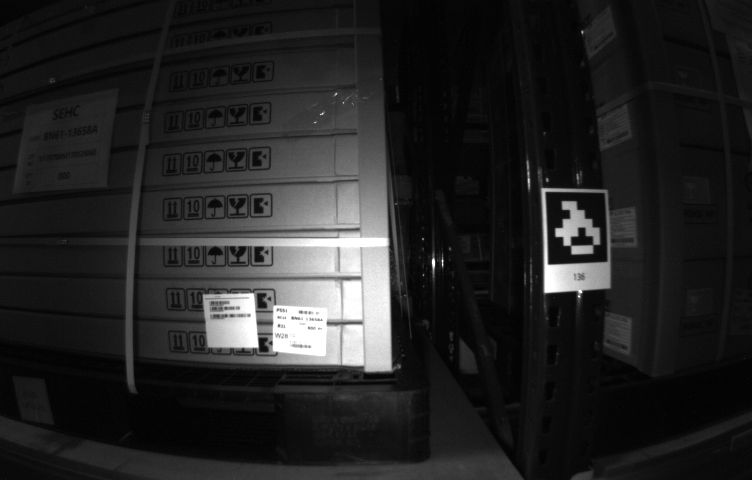True Barcode: (274, 304, 325, 354)
